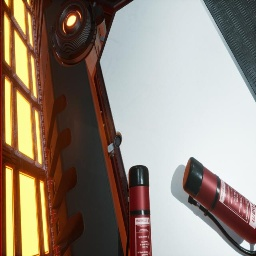FireExtinguisher ]: (182, 157, 256, 256), (126, 165, 152, 256)
